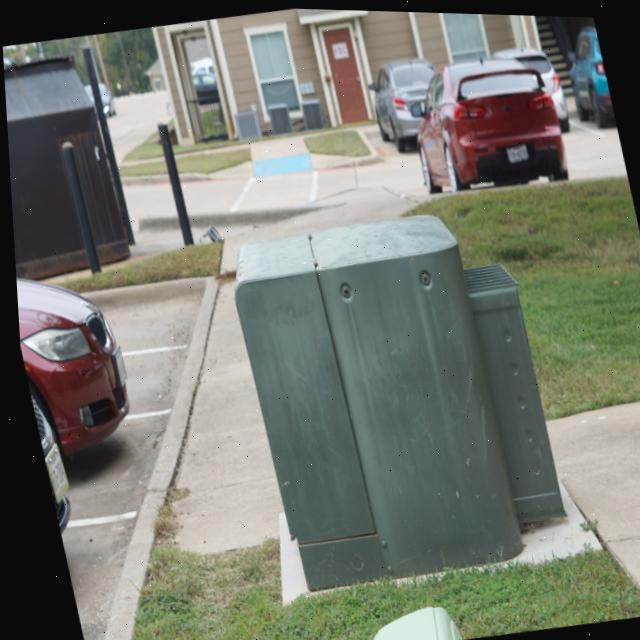Automobile: (13, 279, 124, 464), (416, 57, 566, 190), (492, 44, 569, 129), (371, 56, 434, 150), (26, 394, 64, 535), (570, 24, 614, 124)
Obstacle: (232, 213, 594, 600)
Road: (181, 151, 422, 215), (122, 183, 174, 228)
Sidewalk: (170, 280, 277, 552), (542, 397, 640, 595), (208, 134, 359, 177)
